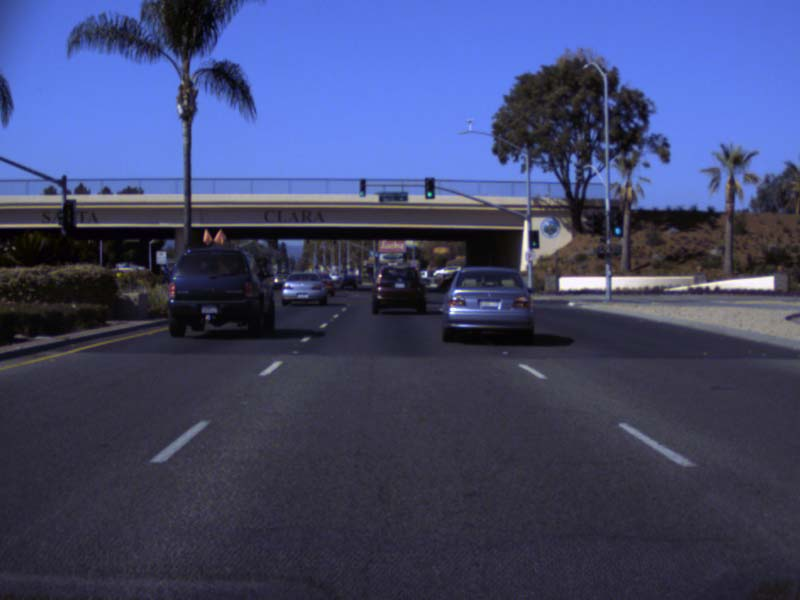Green: (610, 206, 622, 236), (424, 177, 435, 198), (529, 230, 538, 247), (360, 179, 366, 196)
